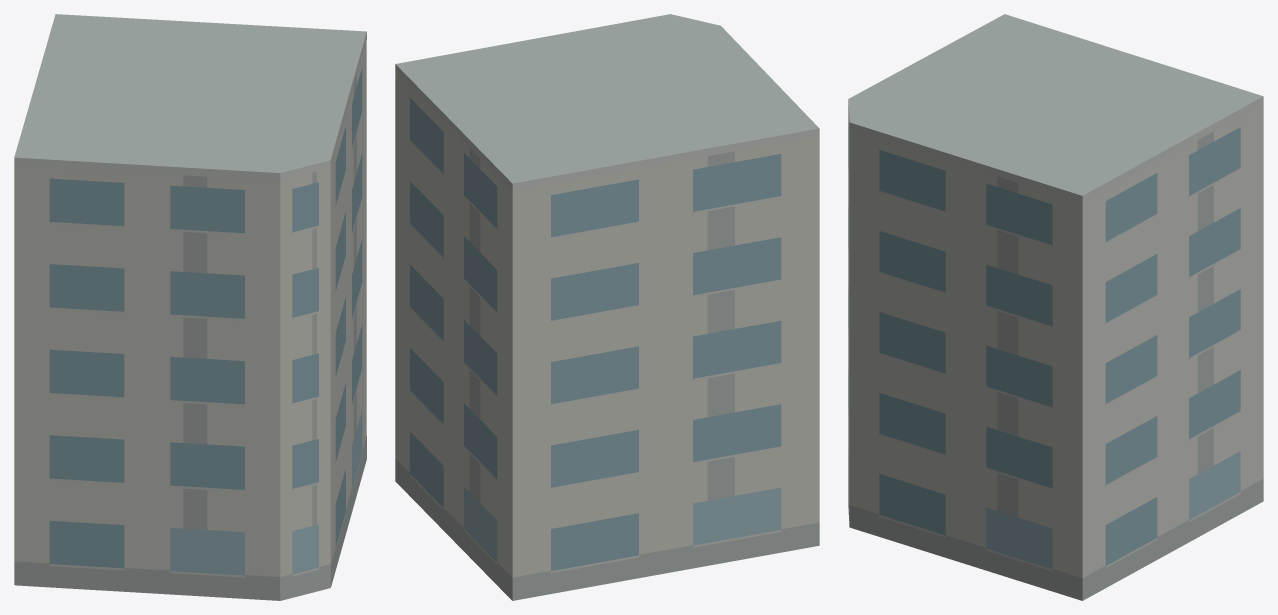
File: survey-upis-32579198.glb
The picture shows the model from 3 angles, left to right: view 1: azimuth 30°, elevation 25°; view 2: azimuth 150°, elevation 25°; view 3: azimuth 270°, elevation 25°; orthographic projection. The views are drawn at different scales.
Visible parts, largest first — view 1: survey-upis-32579198.tmp; view 2: survey-upis-32579198.tmp; view 3: survey-upis-32579198.tmp.
Part boxes in pixels (box(x1,y1,x2,y2)): survey-upis-32579198.tmp: box(14, 14, 366, 600); survey-upis-32579198.tmp: box(395, 14, 819, 600); survey-upis-32579198.tmp: box(848, 14, 1263, 600).
Bounding box in the file's own units: 12.72 × 13.2 × 12.27.
